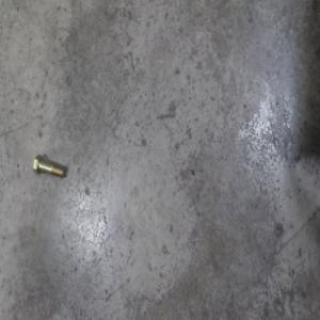Bolttrack_idkeyframe: (32, 152, 64, 180)
